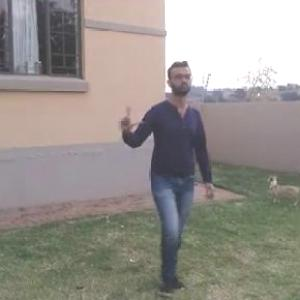land_hand: (115, 102, 147, 136)
